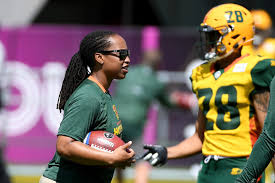black_female: (73, 28, 132, 83)
